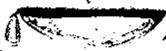Basket: (3, 6, 165, 49)
